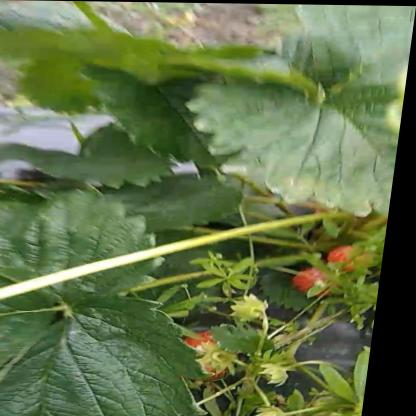ripe: (184, 327, 254, 384), (297, 266, 329, 292), (332, 241, 360, 267)
